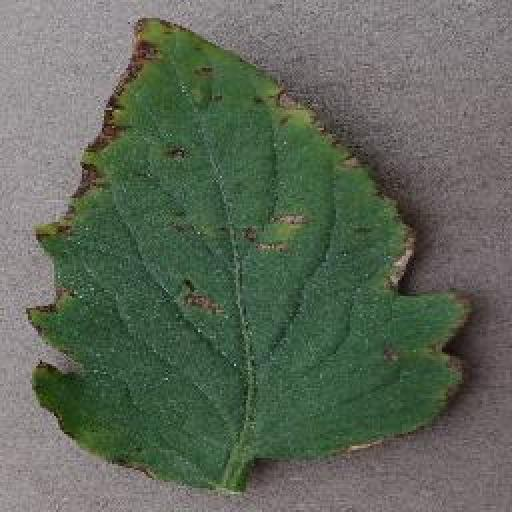Bacterial Spot: (24, 10, 481, 503)
